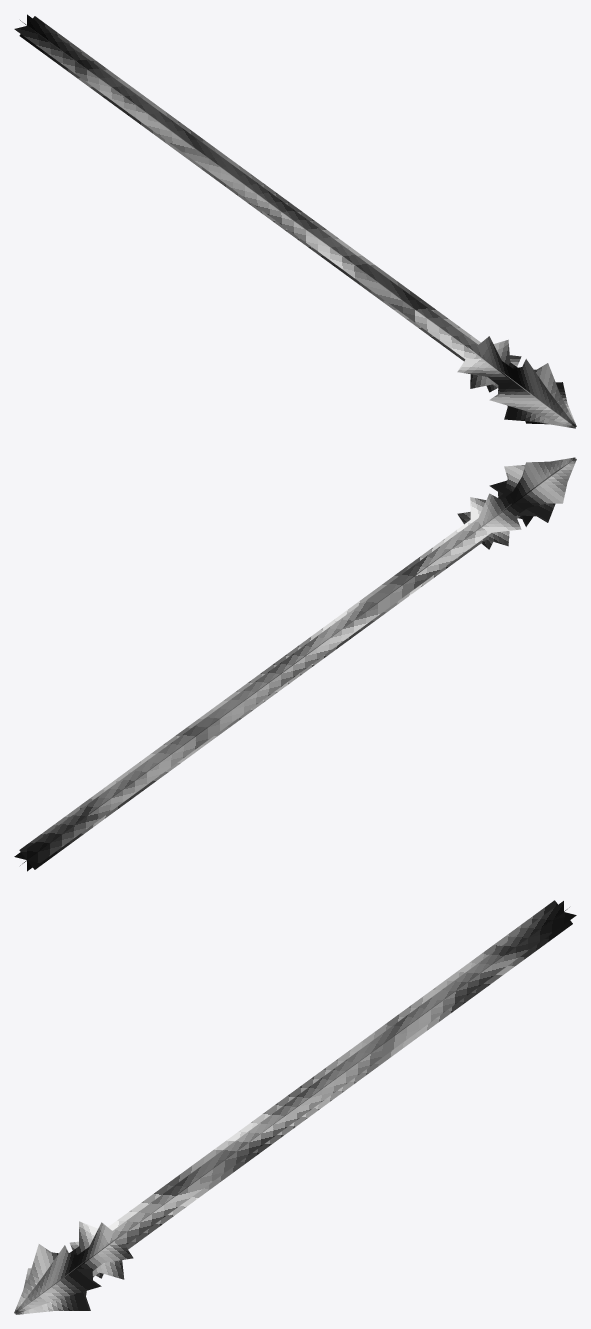
File: projMagicArrow.fbx
The picture shows the model from 3 angles, top to bottom: view 1: azimuth 30°, elevation 25°; view 2: azimuth 150°, elevation 25°; view 3: azimuth 330°, elevation 25°; orthographic projection.
Parts seen in each view (by area): view 1: Arrow01, Arrow01 (1); view 2: Arrow01, Arrow01 (1); view 3: Arrow01, Arrow01 (1).
Part boxes in pixels (x1,y1,x2,y2): Arrow01: [14, 14, 576, 428]; Arrow01 (1): [19, 16, 575, 428]; Arrow01: [14, 457, 576, 871]; Arrow01 (1): [19, 460, 572, 869]; Arrow01: [14, 901, 576, 1314]; Arrow01 (1): [14, 900, 572, 1314].
Size of the model in its own units: 0.1093 by 0.0921 by 1.41.
1 material, 1 textured.
